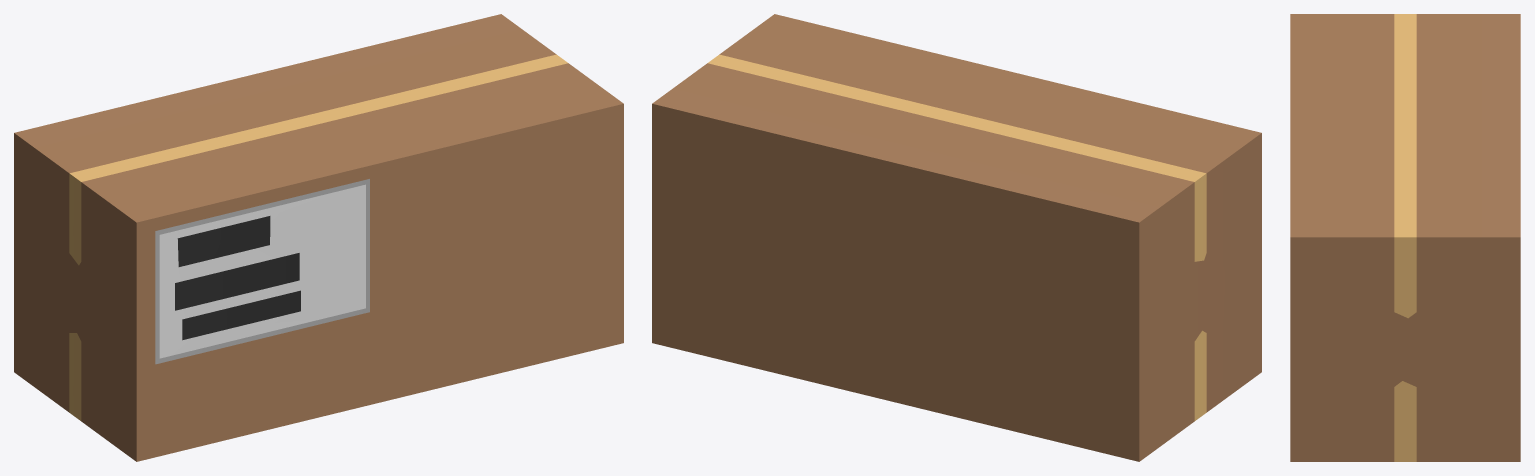
File: Tan Packing Box #1.fbx
3 renders of one model, left to right at view 1: azimuth 30°, elevation 25°; view 2: azimuth 150°, elevation 25°; view 3: azimuth 270°, elevation 25°, orthographic. The views are drawn at different scales.
Parts seen in each view (by area): view 1: Small Tan Packing Box #3; view 2: Small Tan Packing Box #3; view 3: Small Tan Packing Box #3.
Boxes of the visible parts, x1,y1,x2,y2 form: Small Tan Packing Box #3: (14,14,623,461); Small Tan Packing Box #3: (652,14,1261,461); Small Tan Packing Box #3: (1290,14,1520,461).
Bounding box in the file's own units: 137 × 127 × 292.
Materials: 1 (1 with a texture image).
